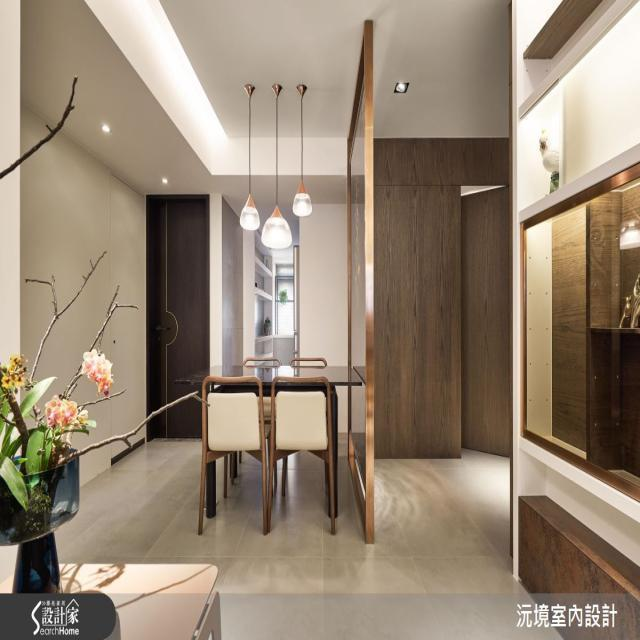table: (188, 348, 362, 540)
